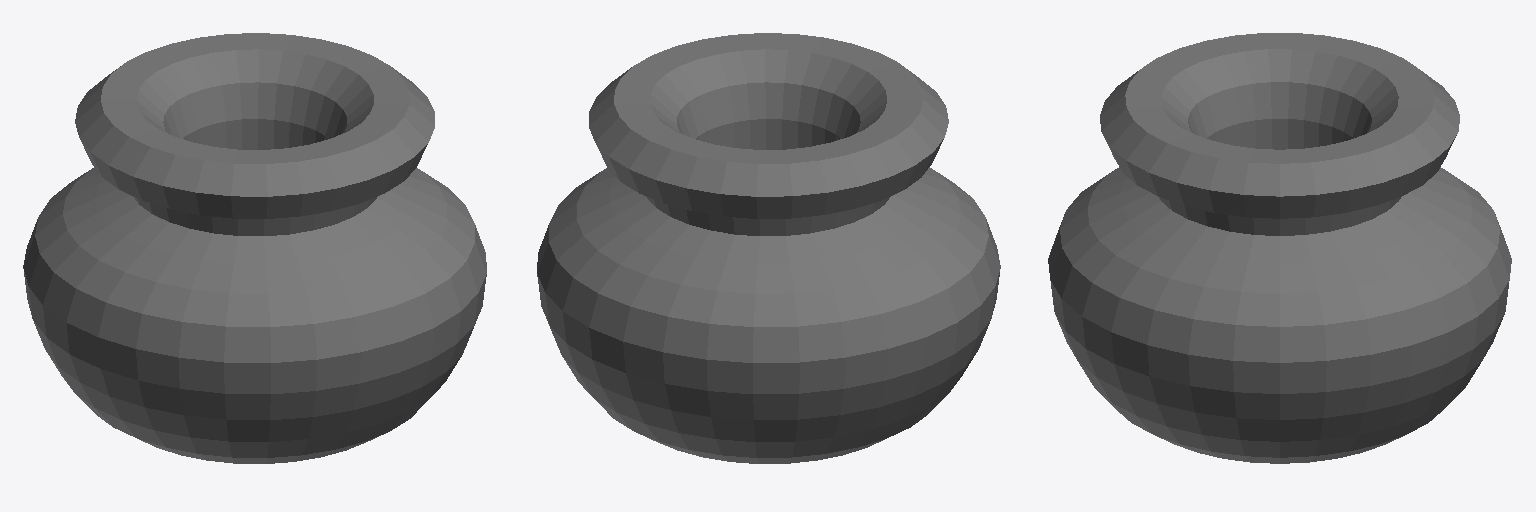
File: Fishbowl-Tesselated.obj
3 views of the same model, side by side, from view 1: azimuth 30°, elevation 25°; view 2: azimuth 150°, elevation 25°; view 3: azimuth 270°, elevation 25° (orthographic).
Parts seen in each view (by area): view 1: SmootherBowl:BetterBowl; view 2: SmootherBowl:BetterBowl; view 3: SmootherBowl:BetterBowl.
Boxes of the visible parts, box(x1,y1,x2,y2) form: SmootherBowl:BetterBowl: box(23, 33, 486, 463); SmootherBowl:BetterBowl: box(537, 33, 1000, 463); SmootherBowl:BetterBowl: box(1048, 33, 1511, 463).
Size of the model in its own units: 42.59 by 31.82 by 42.48.